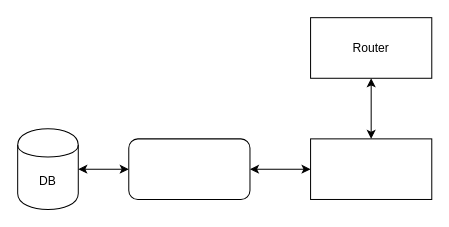
Image size: 449x227. Some labels were removed from this diagram. The shapes that lost their labels are listed below. From the top down, each one's box as (x1, y1, x2, y2) in pixels, then its label:
(128, 138, 250, 199): Model
(310, 138, 432, 199): Controller
